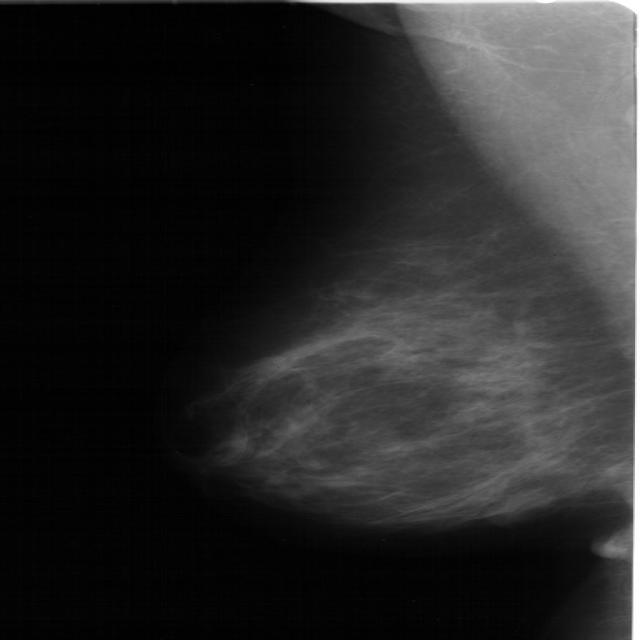tumour: (485, 491, 557, 522)
